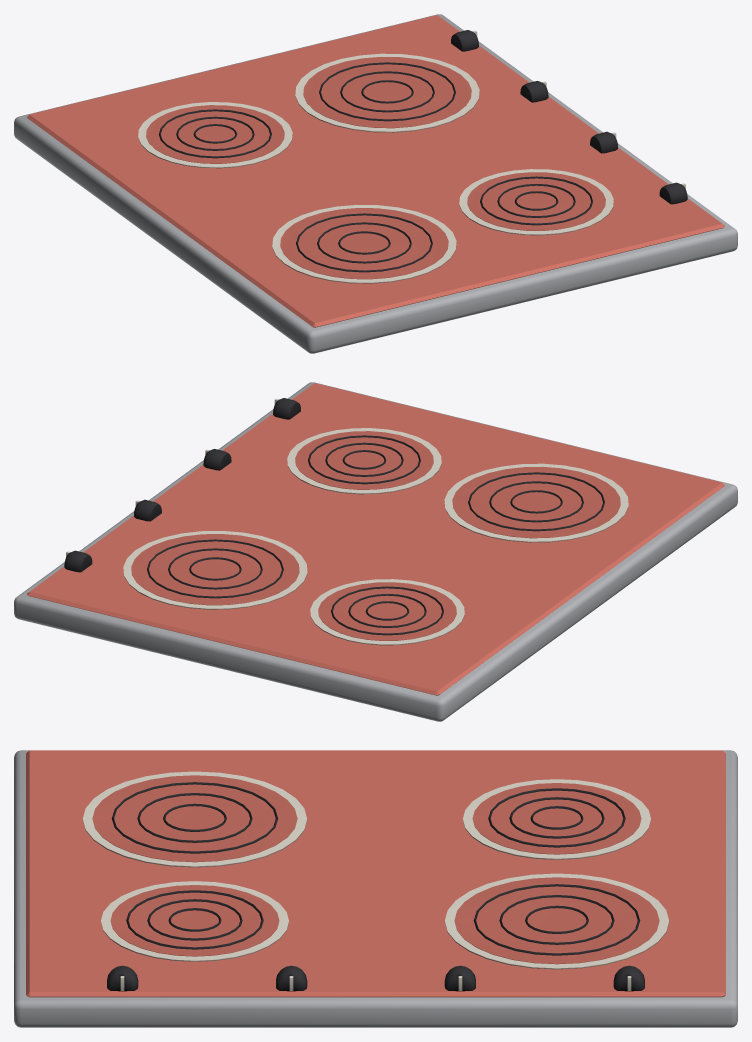
The model's file is nd_stove_3.glb.
3 views of the same model, one above another, from view 1: azimuth 30°, elevation 25°; view 2: azimuth 150°, elevation 25°; view 3: azimuth 270°, elevation 25° (orthographic). The views are drawn at different scales.
Parts seen in each view (by area): view 1: PART; view 2: PART; view 3: PART, KNOB_1, KNOB_4, KNOB_2, KNOB_3.
Boxes of the visible parts, x1,y1,x2,y2 form: PART: [14, 14, 737, 353]; PART: [14, 382, 737, 721]; PART: [14, 750, 737, 1027]; KNOB_1: [107, 965, 138, 991]; KNOB_4: [613, 965, 644, 991]; KNOB_2: [276, 965, 307, 991]; KNOB_3: [444, 965, 475, 991].
Bounding box in the file's own units: 0.5 × 0.044 × 0.6.
